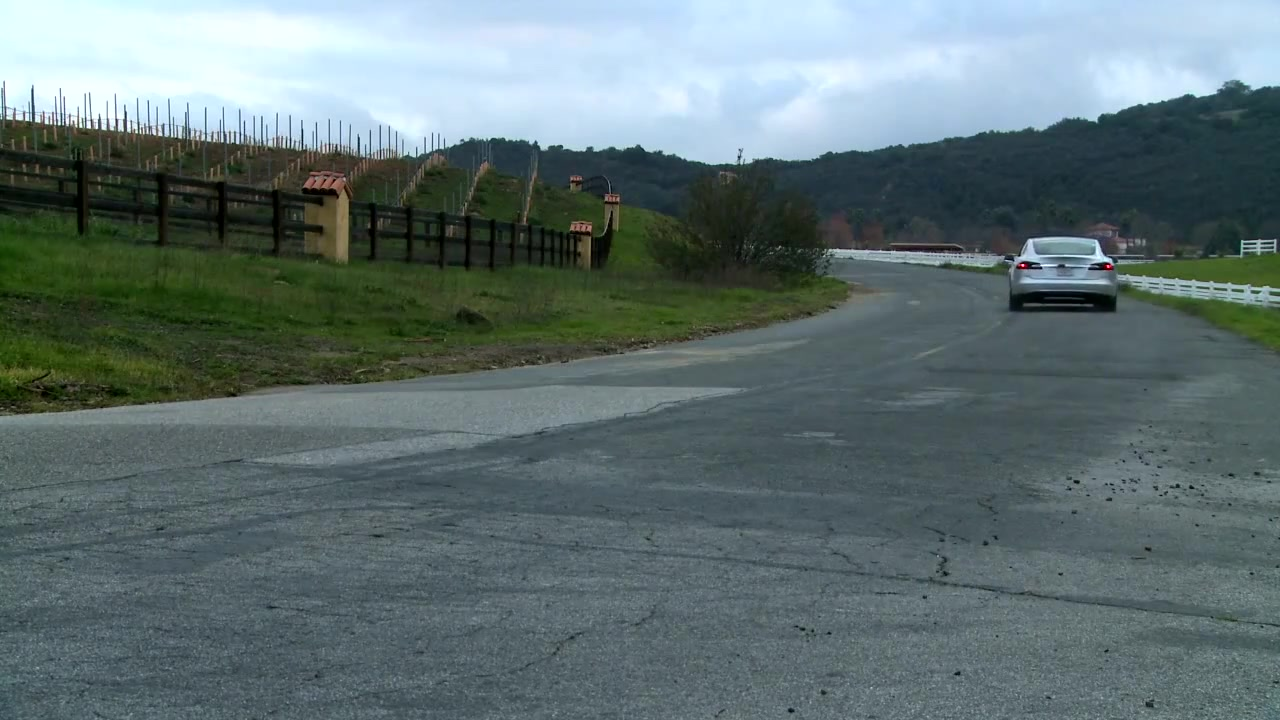car: (1004, 236, 1122, 312)
